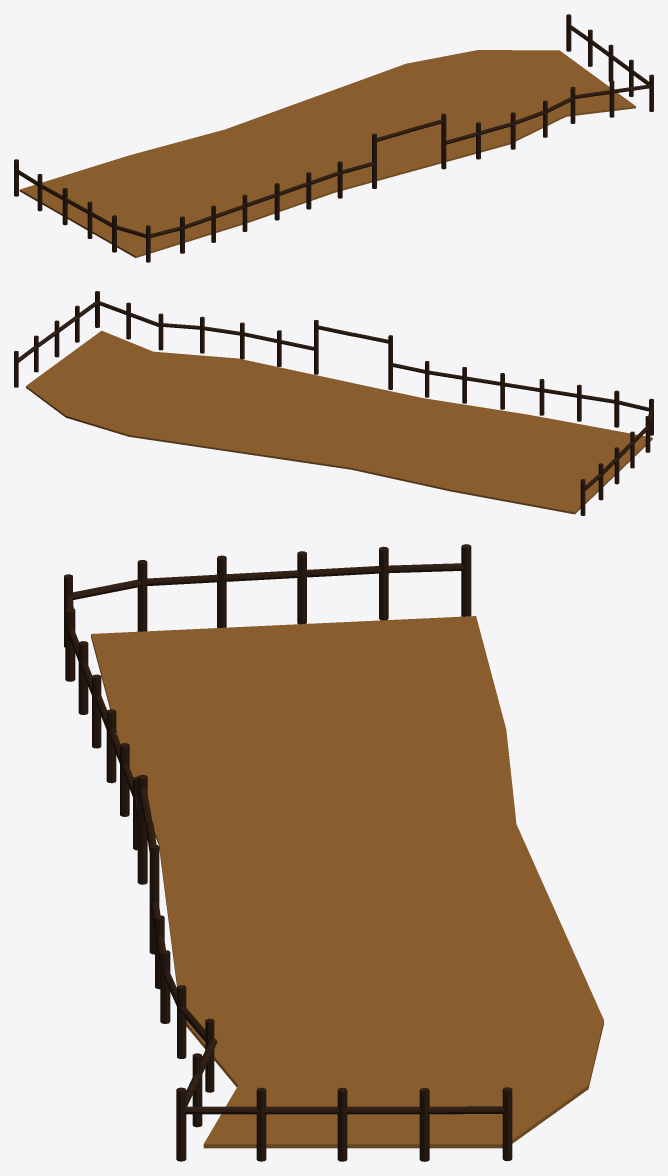
The model's file is Field_Top_Left.fbx.
The picture shows the model from 3 angles, top to bottom: view 1: azimuth 30°, elevation 25°; view 2: azimuth 150°, elevation 25°; view 3: azimuth 270°, elevation 25°; orthographic projection. The views are drawn at different scales.
Visible parts, largest first — view 1: FieldTopLeft; view 2: FieldTopLeft; view 3: FieldTopLeft.
Part boxes in pixels (x1,y1,x2,y2): FieldTopLeft: (14,14,653,262); FieldTopLeft: (14,291,653,515); FieldTopLeft: (64,544,603,1161).
Bounding box in the file's own units: 29.52 × 2.66 × 12.3.
